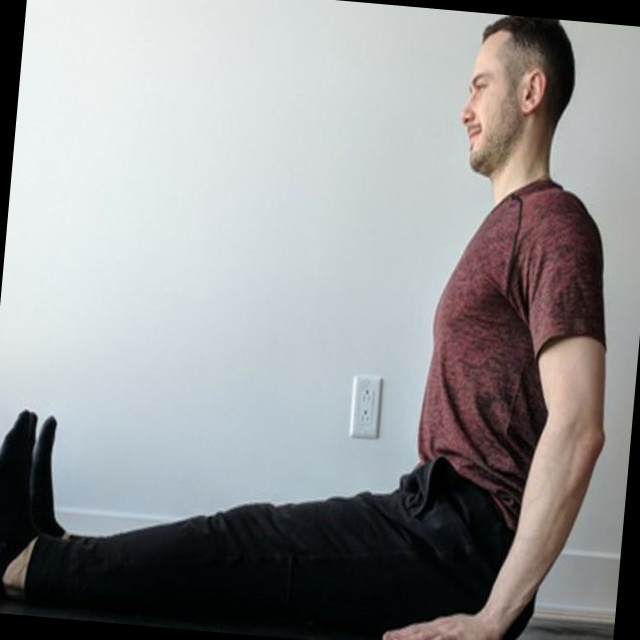Staff_Pose: (1, 18, 608, 637)
